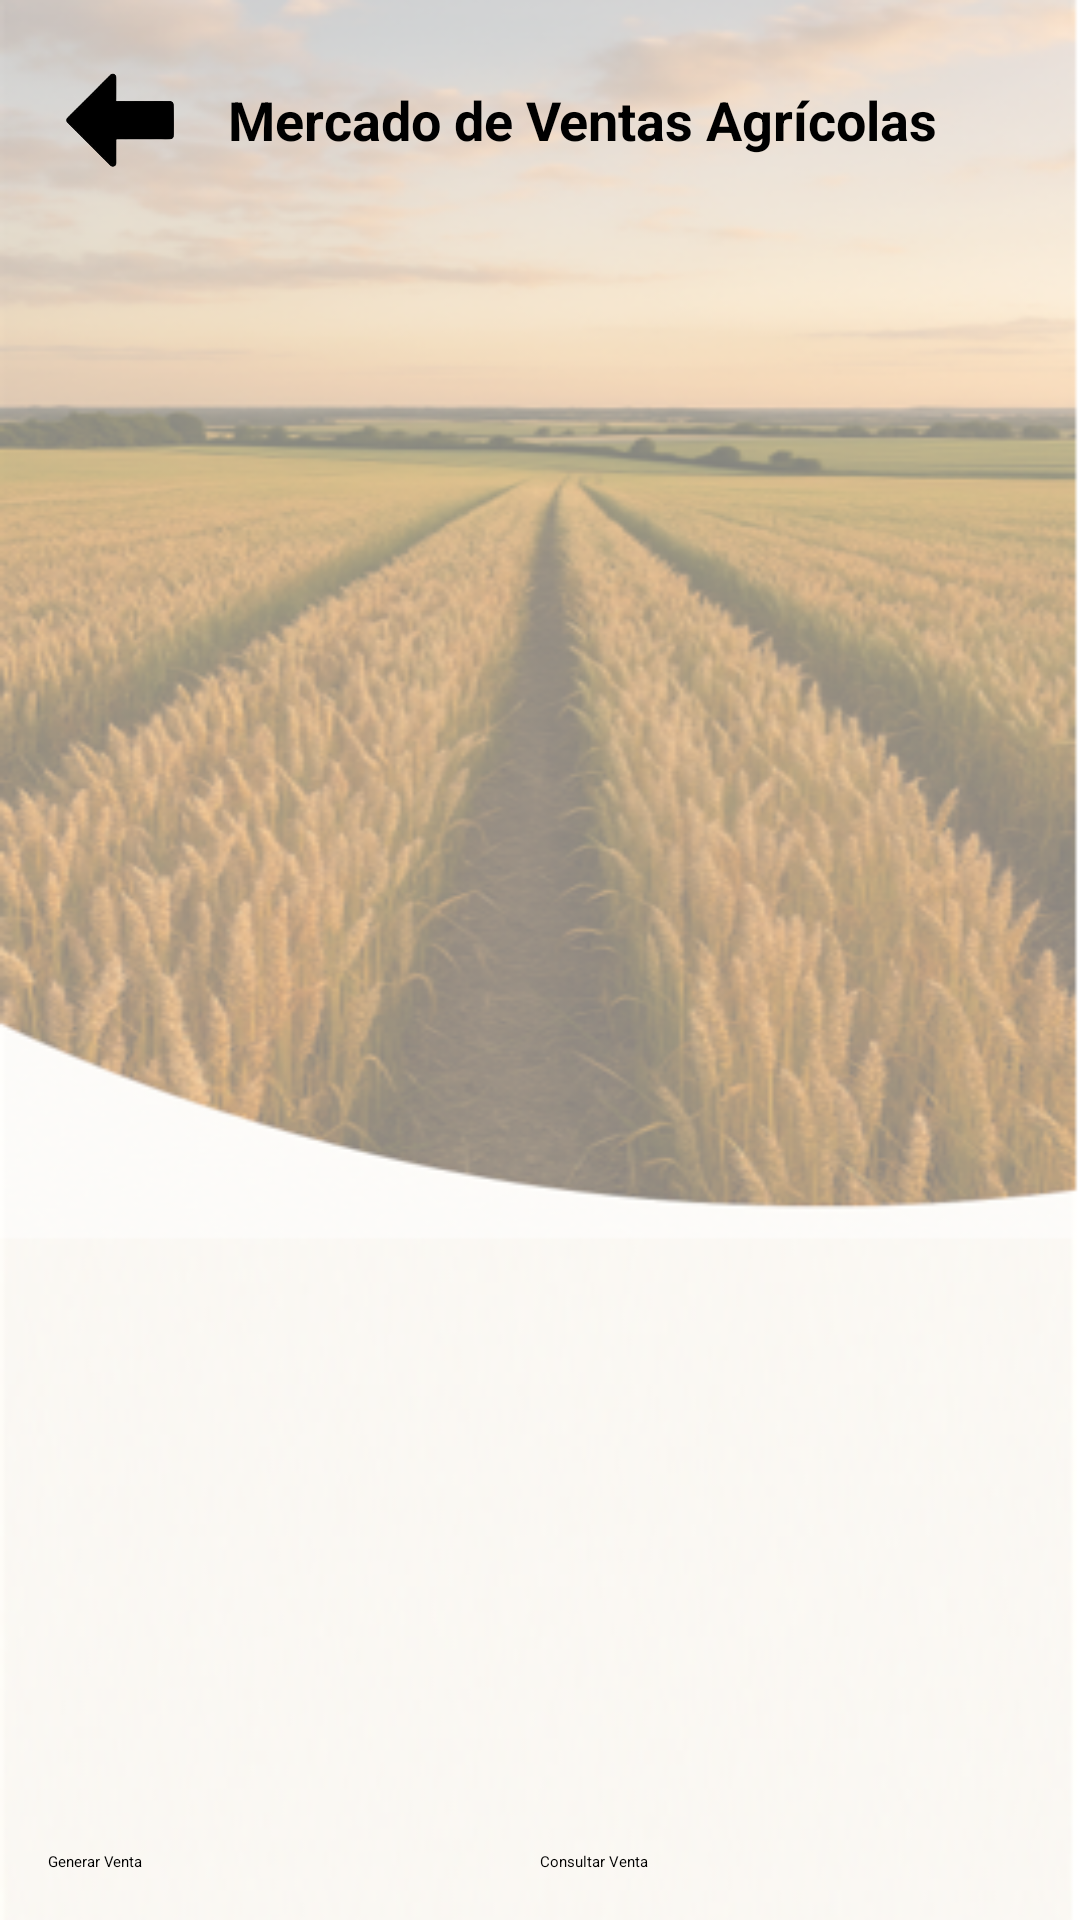

Named icons in this screenshot (1080px×1920px) and their bounding boxes, Rect(x1, y1, x2, y2):
Volver: Rect(48, 48, 192, 192)
